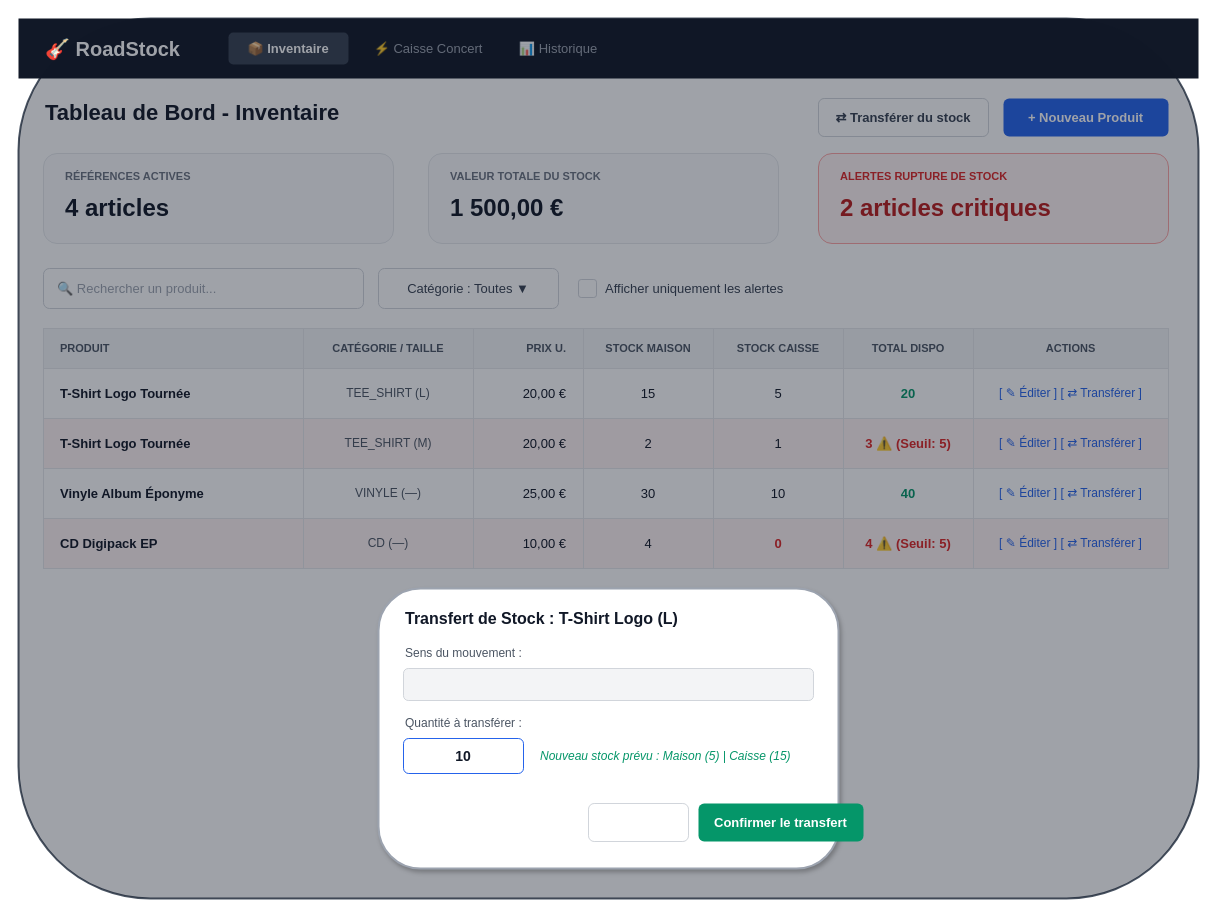
Some shapes in this 1216 by 916 pixel diagram are drawn without their labels. The shapes that lost their labels are listed below. From the top down, each one's centre as x and y in pixels, then its label:
the point at 608,684: Maison ➔ Caisse Concert (Départ en concert)
the point at 638,822: Annuler
